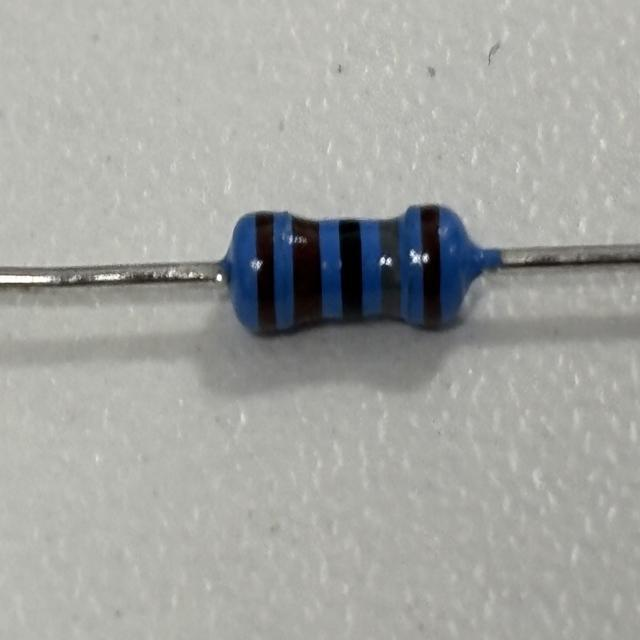resistor: (239, 198, 462, 344)
